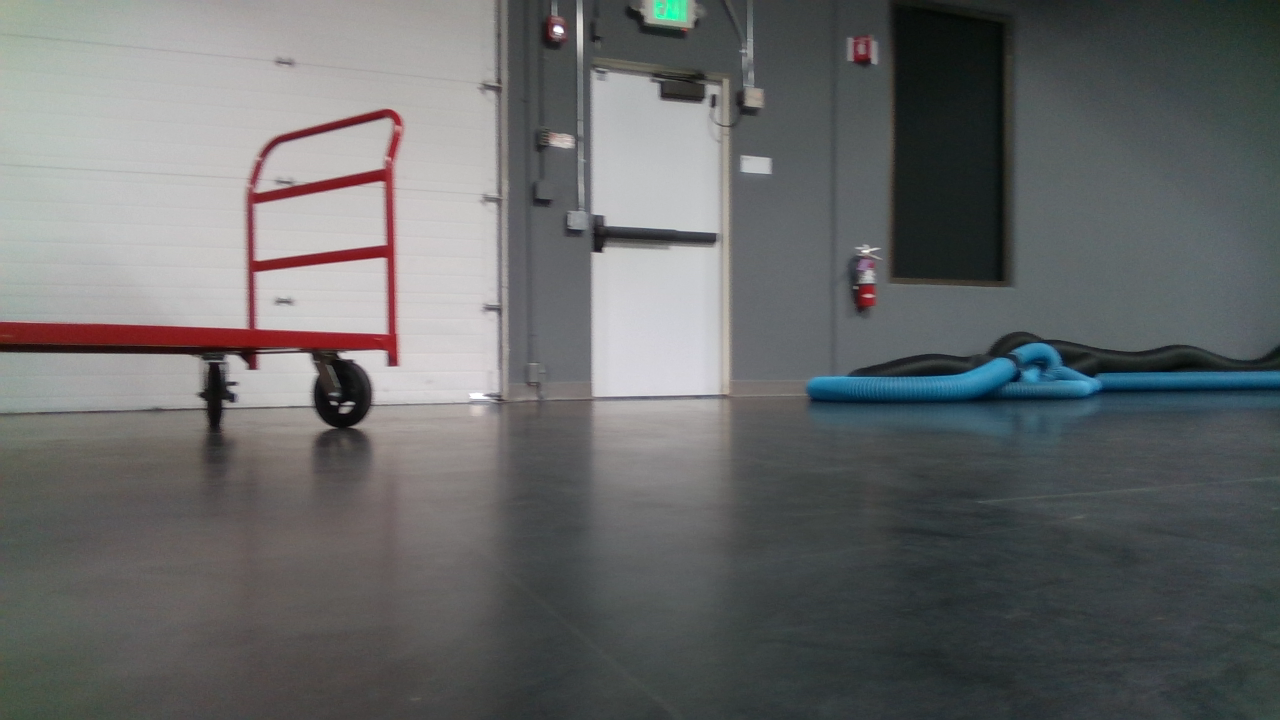Dolly: (0, 95, 409, 437)
Wheel: (311, 356, 375, 431), (197, 362, 239, 429)
